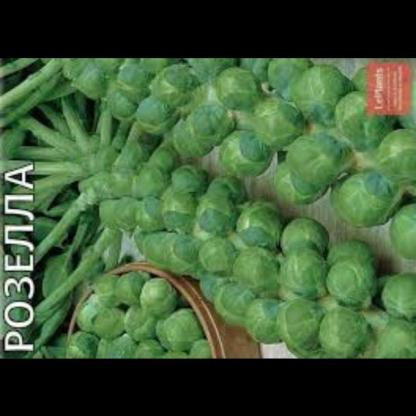brus capusta: (55, 162, 402, 353), (77, 59, 416, 185), (74, 271, 220, 358)
